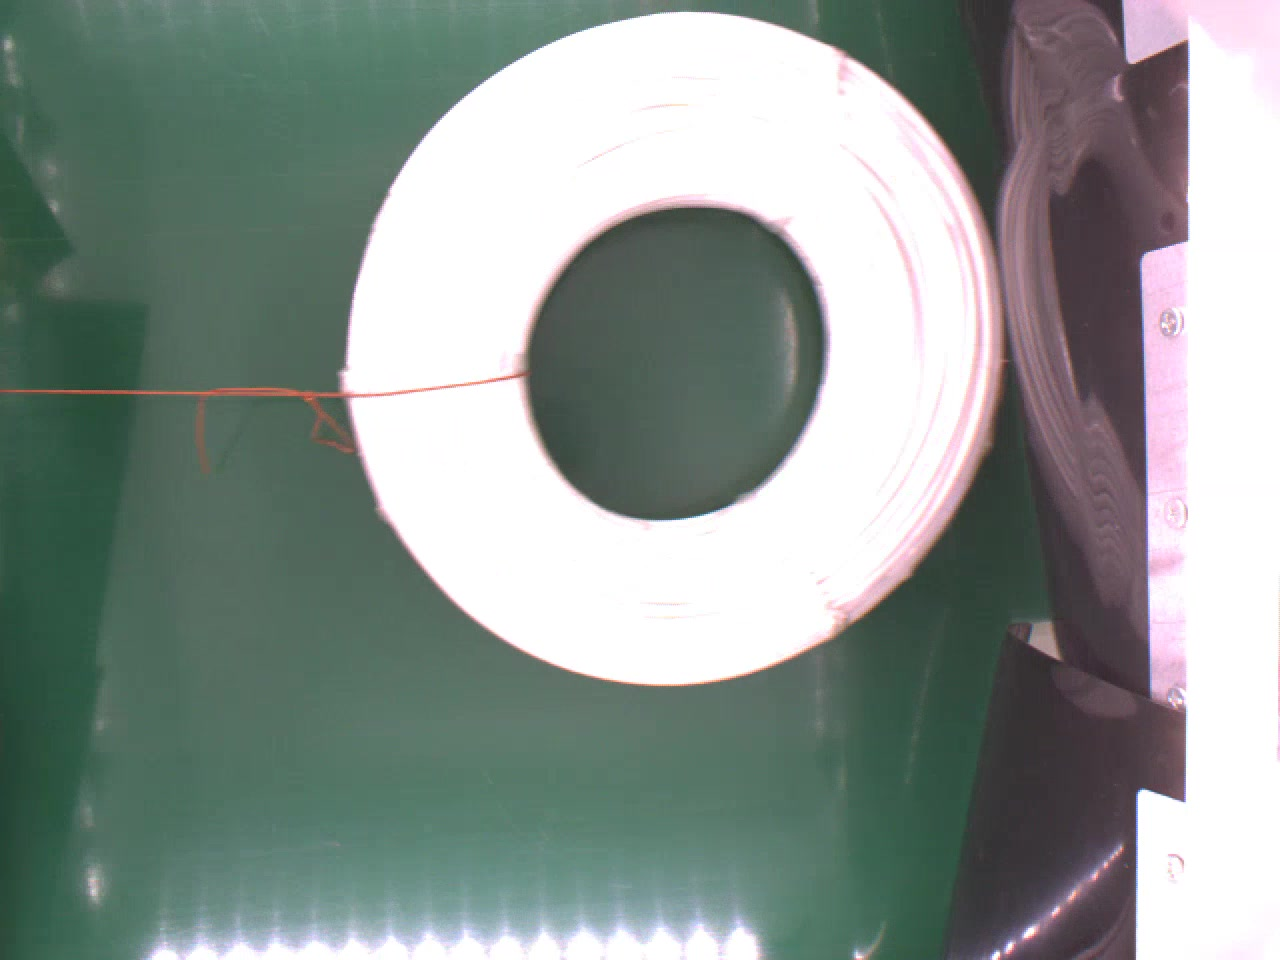white: (337, 10, 1009, 688)
